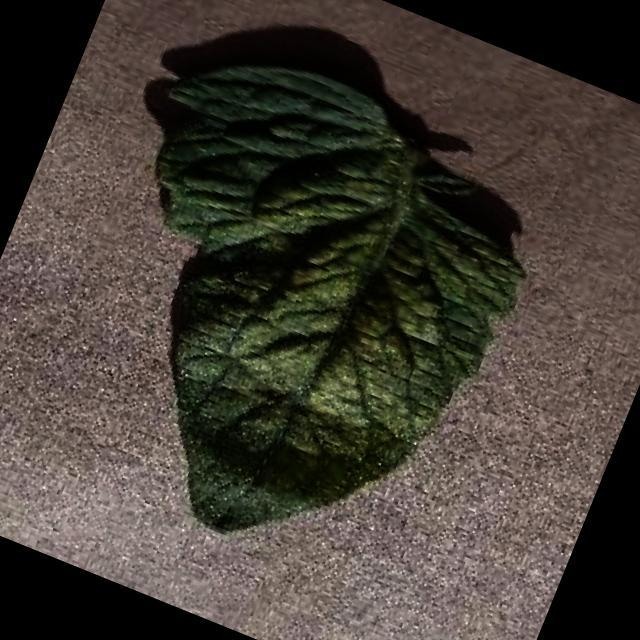Tomato spider mites leaf: (19, 22, 563, 604)
